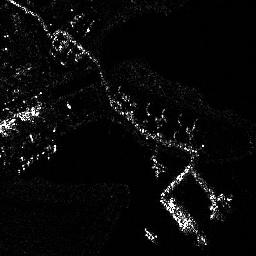ship: (164, 197, 206, 244), (16, 140, 57, 174), (208, 193, 234, 219)
